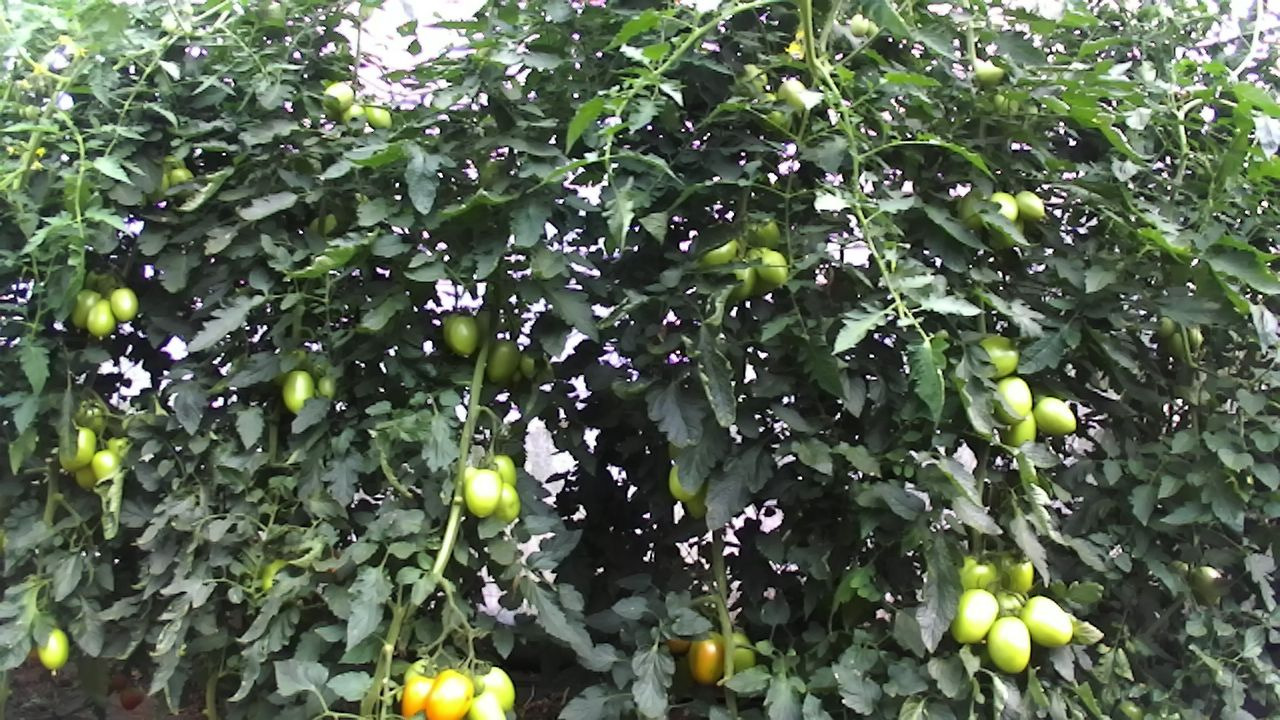tomato: (948, 585, 1006, 647), (1019, 591, 1075, 651), (983, 614, 1036, 677), (422, 663, 477, 720), (988, 370, 1037, 426), (971, 329, 1022, 382), (55, 419, 99, 474), (1030, 392, 1080, 440), (685, 629, 726, 687), (460, 466, 502, 522), (473, 663, 517, 713), (483, 336, 522, 388), (281, 366, 315, 417), (488, 477, 524, 525), (446, 312, 482, 360), (750, 244, 789, 288), (68, 284, 103, 332), (36, 623, 70, 670), (85, 446, 127, 483), (85, 299, 118, 340), (320, 79, 357, 112), (108, 284, 139, 323), (1014, 186, 1045, 223), (313, 372, 337, 403)
